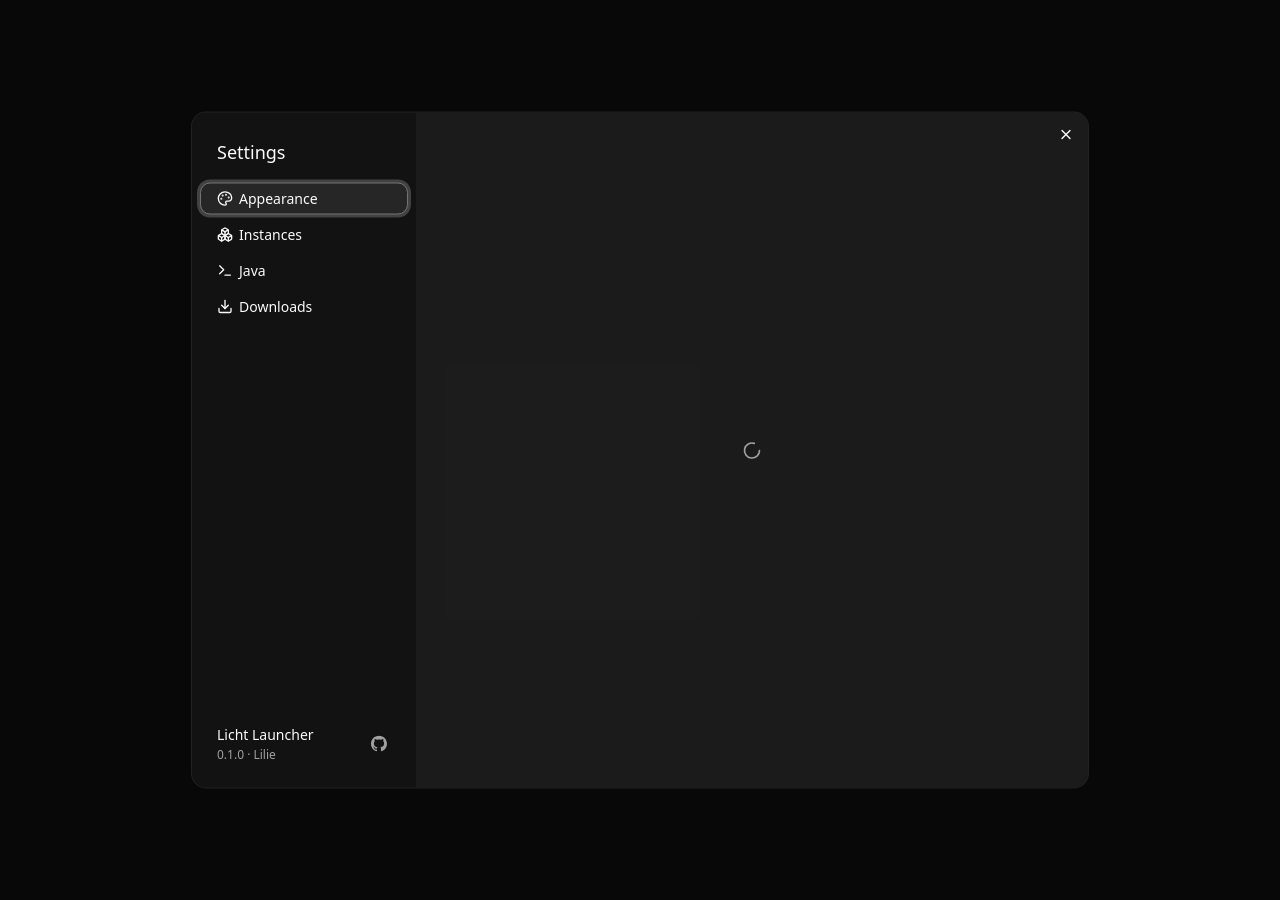
it: JavaSection › keeps the other icons and shows a loader on the path being checked
What coordinates should you click on to do the following:
click the button "Java"
I would click on:
 (304, 270)
Its box is [200,254,408,286].
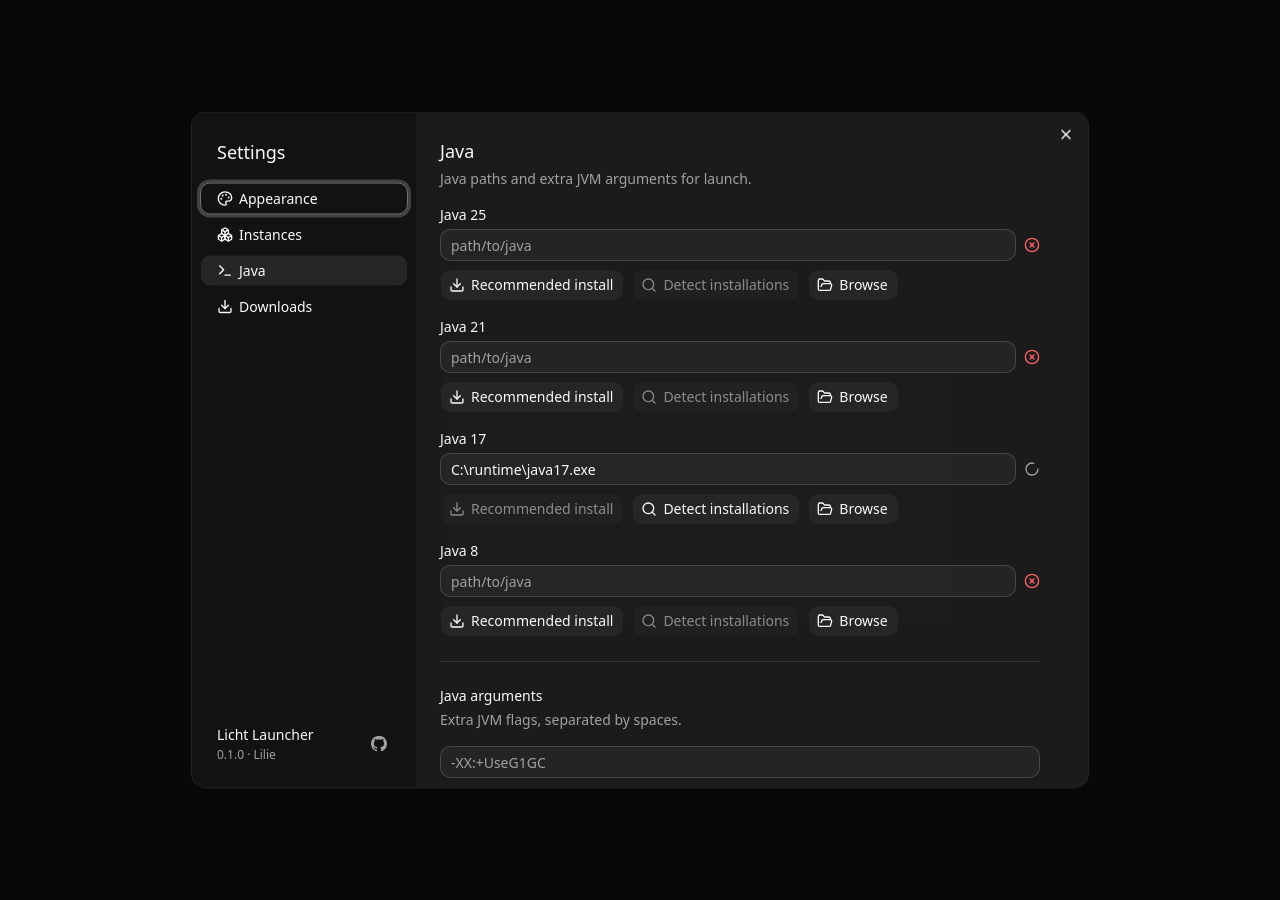
Expected: the picture named "Checking Java 17" is shown, [1024,460,1040,476]
Expected: the button with aria-label "Recommended install for Java 17" is disabled, [440,492,624,524]
Expected: the button with aria-label "Recommended install for Java 25" is enabled, [440,268,624,300]
